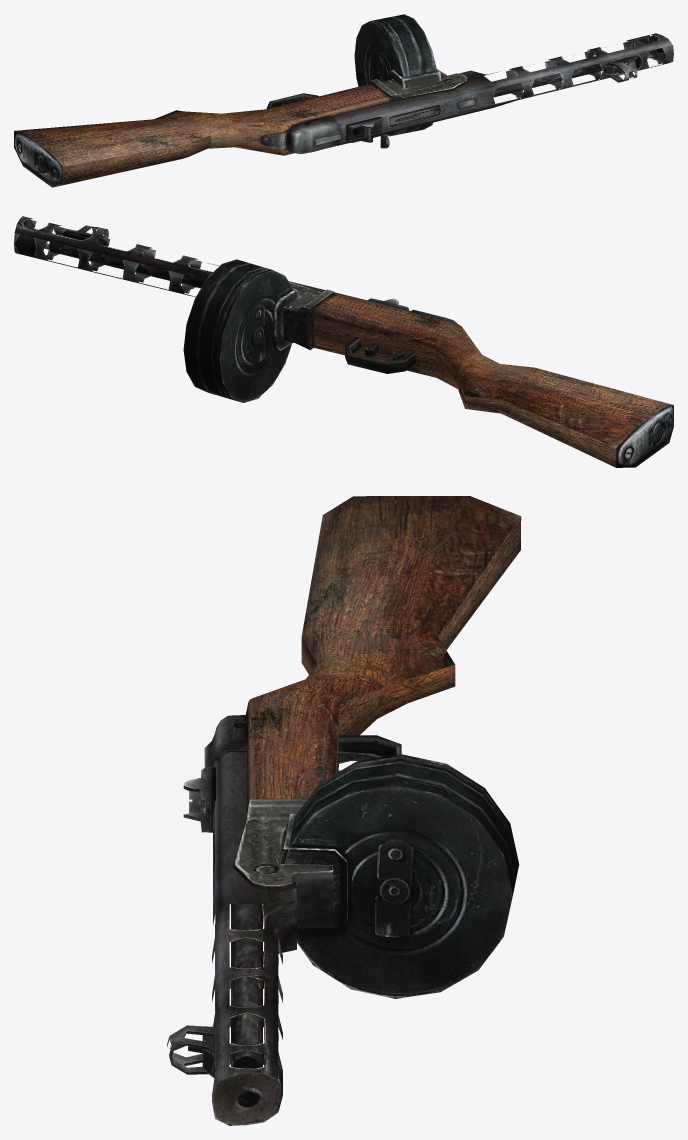
The model's file is weapon_ppsh.glb.
3 views of the same model, one above another, from view 1: azimuth 30°, elevation 25°; view 2: azimuth 150°, elevation 25°; view 3: azimuth 270°, elevation 25° (orthographic). The views are drawn at different scales.
Size of the model in its own units: 33.52 by 5.81 by 8.77.
Materials: 1 (1 with a texture image).
